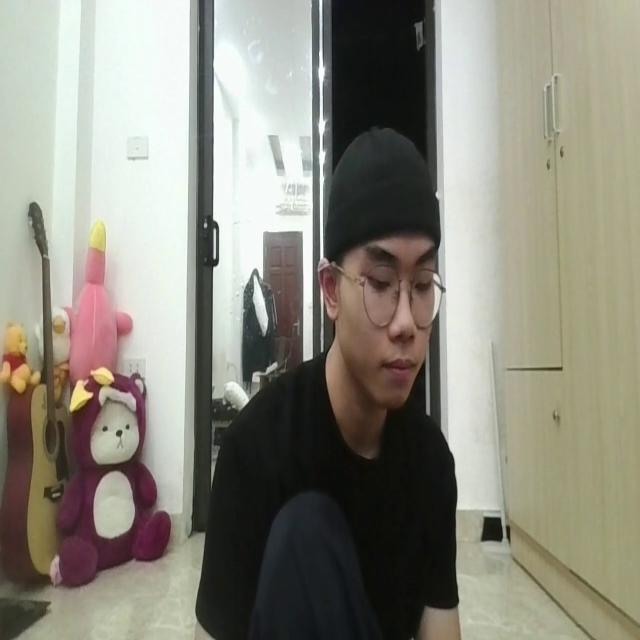student: (198, 130, 465, 640)
